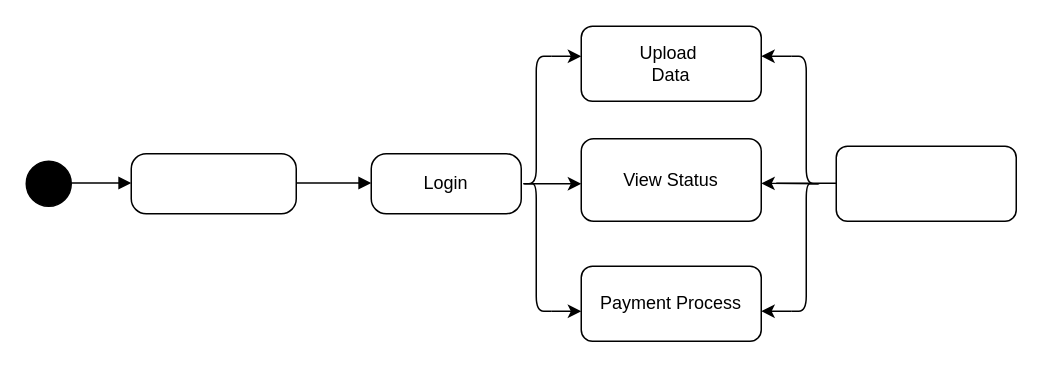
Some shapes in this 1043 by 368 pixel diagram are drawn without their labels. The shapes that lost their labels are listed below. From the top down, each one's box as (x1, y1, x2, y2) in pixels, then its label:
(130, 152, 296, 214): Salon Owner
(835, 145, 1016, 221): LogOut
